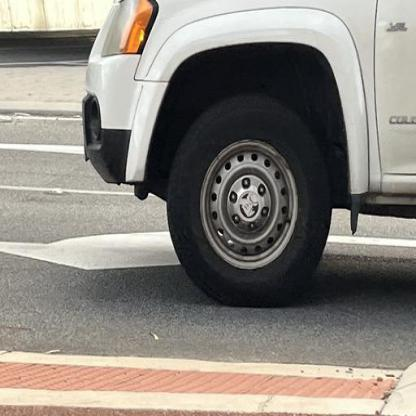Tire: (166, 93, 332, 308)
